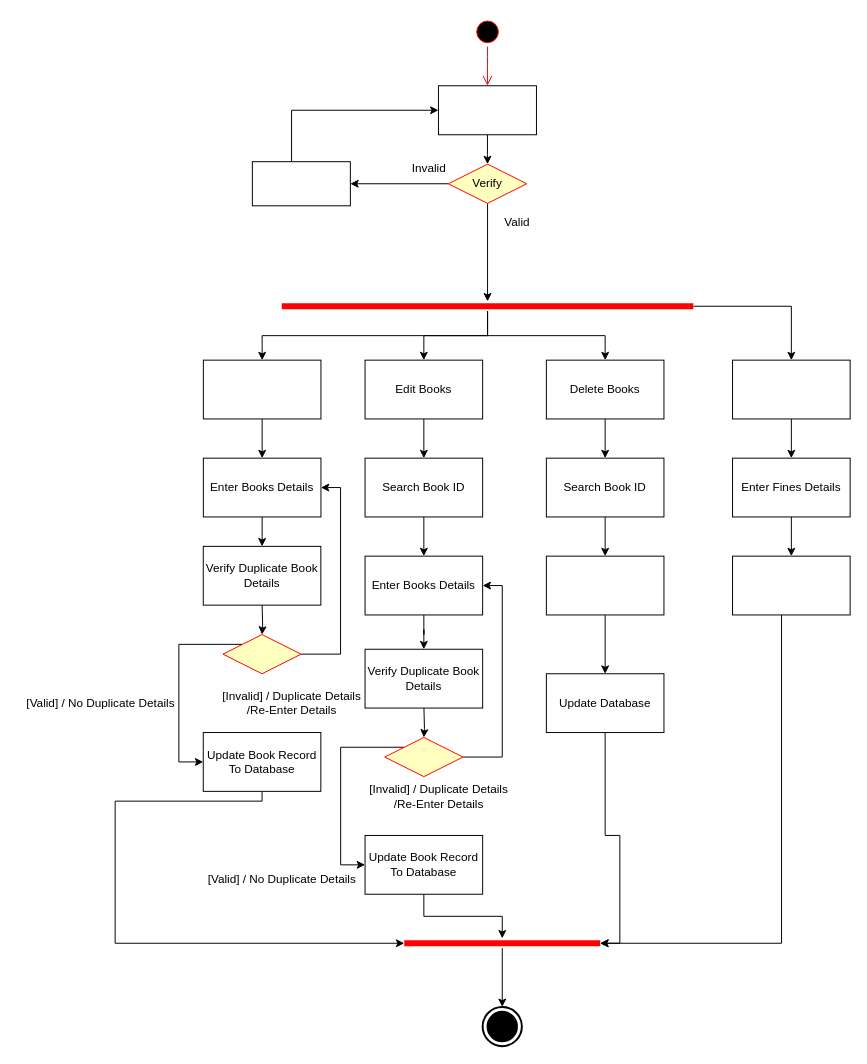
The diagram is 867 pixels wide and 1064 high, and some of its shapes have lost their labels. The shapes that lost their labels are listed below. From the top down, each one's centre as x and y in pixels, then its label:
At [486,110]: "Login".
At [300,183]: "Forgot Password".
At [261,389]: "Add Books".
At [791,389]: "Creates Fines Bills".
At [604,585]: "Confirm Delete Book?".
At [791,585]: "Send Fines Bills To User".
